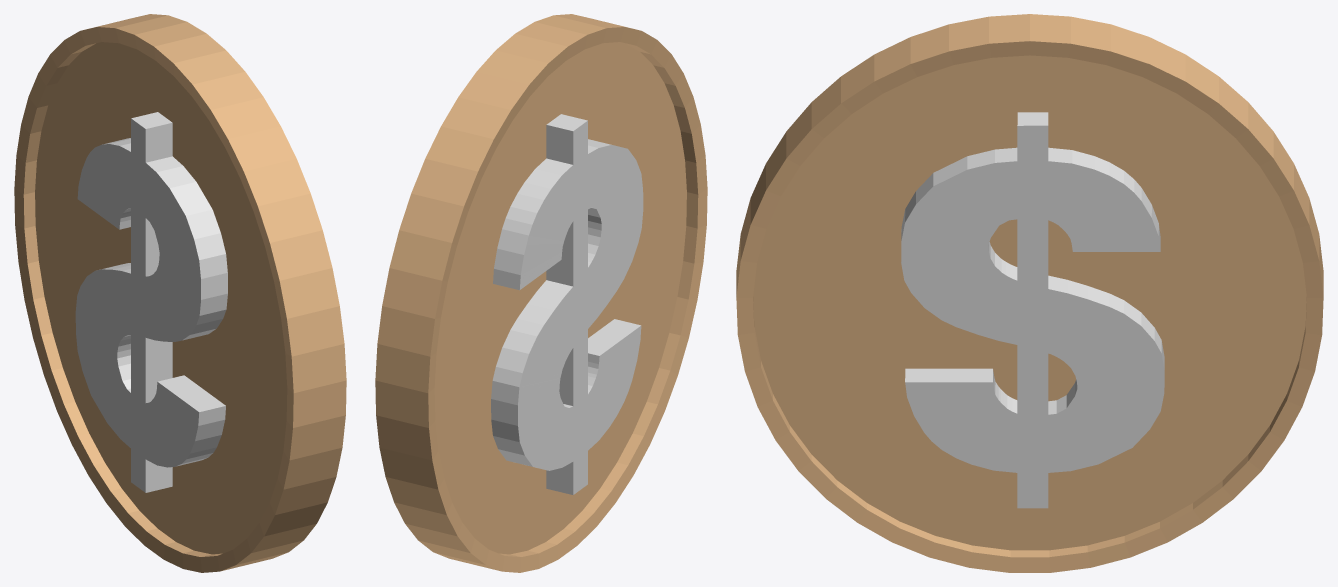
Rendered from coin.fbx.
3 renders of one model, left to right at view 1: azimuth 30°, elevation 25°; view 2: azimuth 150°, elevation 25°; view 3: azimuth 270°, elevation 25°, orthographic. The views are drawn at different scales.
Visible parts, largest first — view 1: Cylinder.003, Plane.001; view 2: Cylinder.003, Plane.001; view 3: Cylinder.003, Plane.001.
Part boxes in pixels (<box>): Cylinder.003: <box>14,14,346,572</box>; Plane.001: <box>75,112,227,492</box>; Cylinder.003: <box>375,14,707,572</box>; Plane.001: <box>491,114,643,494</box>; Cylinder.003: <box>736,14,1323,572</box>; Plane.001: <box>901,112,1164,508</box>.
Bounding box in the file's own units: 11.52 × 71.08 × 71.12.
